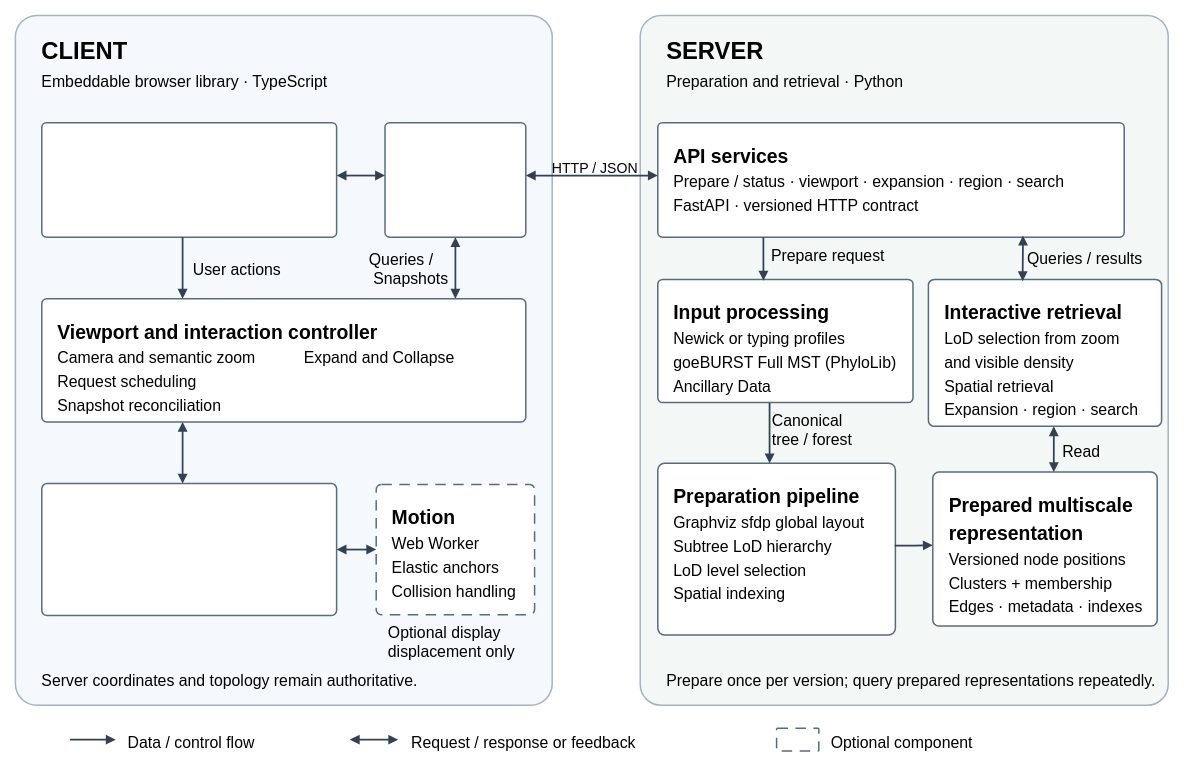
Image size: 1203x767. Some labels were removed from this diagram. The shapes that lost their labels are listed below. From the top down, each one's centre as x and y in pixels, then its label:
the point at 189,180: Embeddable client API Load and lifecycle Filtering · navigation · export
the point at 455,180: HTTP client Contracts Validation
the point at 189,549: Visualization and rendering Graphology Sigma.js / WebGL Camera events
